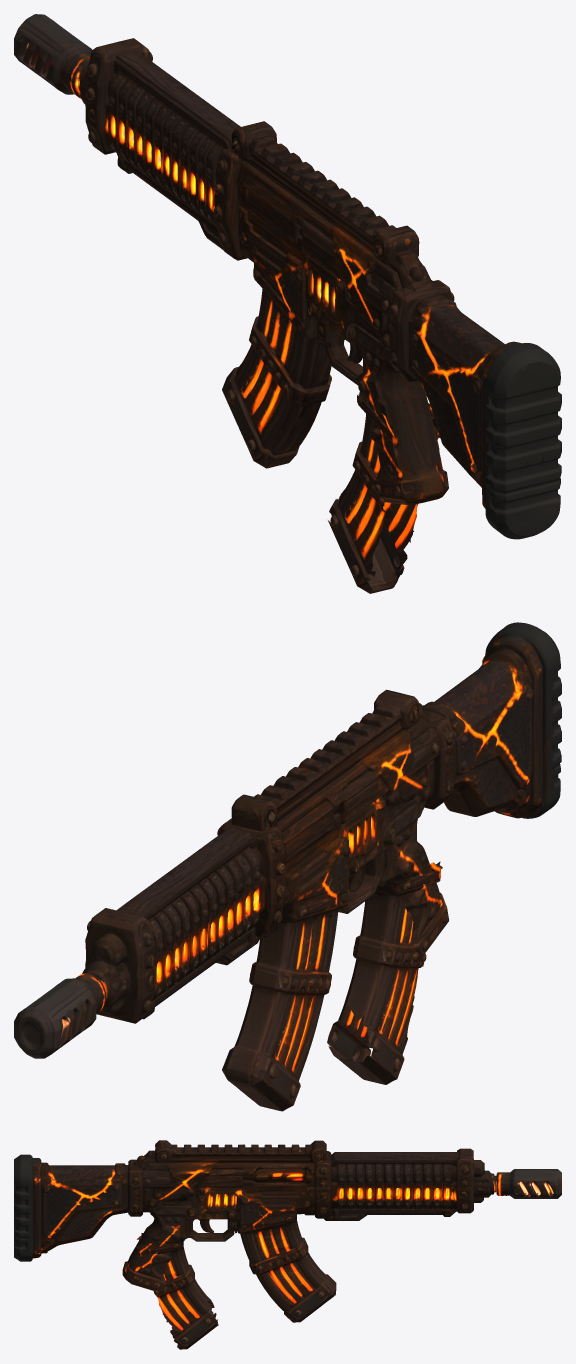
The model's file is AssaultRifle_Vandalfoundry.gltf.
The picture shows the model from 3 angles, top to bottom: view 1: azimuth 30°, elevation 25°; view 2: azimuth 150°, elevation 25°; view 3: azimuth 270°, elevation 25°; orthographic projection. The views are drawn at different scales.
Visible parts, largest first — view 1: Gun, Mag; view 2: Gun, Mag; view 3: Gun, Mag.
Boxes of the visible parts, box(x1,y1,x2,y2) form: Gun: box(14, 14, 561, 539); Mag: box(328, 392, 440, 593); Gun: box(14, 622, 561, 1111); Mag: box(327, 861, 442, 1084); Gun: box(14, 1140, 561, 1322); Mag: box(136, 1233, 218, 1349).
Size of the model in its own units: 0.0734 by 0.3751 by 0.92.
Materials: 1 (1 with a texture image).
